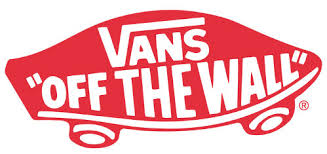vans: (96, 16, 210, 68)
